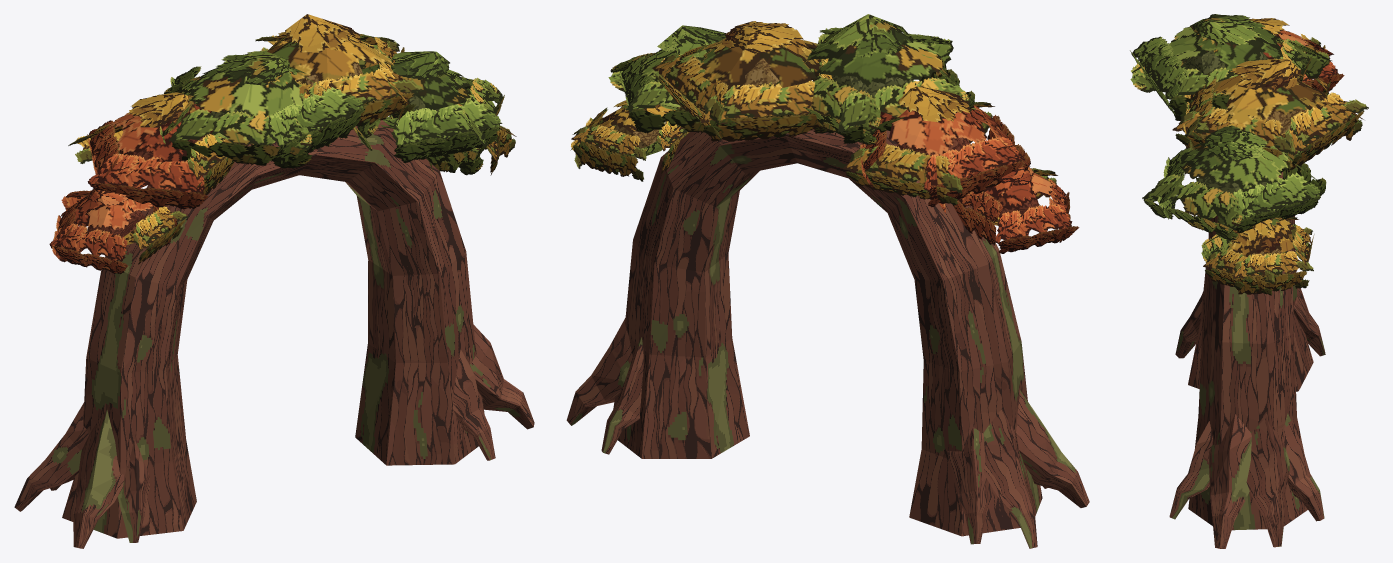
File: SM_TR13_Arch.fbx
The picture shows the model from 3 angles, left to right: view 1: azimuth 30°, elevation 25°; view 2: azimuth 150°, elevation 25°; view 3: azimuth 270°, elevation 25°; orthographic projection. The views are drawn at different scales.
Visible parts, largest first — view 1: TR13_Bark, TR13_Crown; view 2: TR13_Bark, TR13_Crown; view 3: TR13_Crown, TR13_Bark.
Part boxes in pixels (x1,y1,x2,y2): TR13_Bark: (14, 120, 534, 548); TR13_Crown: (49, 14, 516, 274); TR13_Bark: (566, 129, 1089, 548); TR13_Crown: (570, 14, 1079, 253); TR13_Crown: (1130, 14, 1368, 295); TR13_Bark: (1169, 172, 1325, 548).
Size of the model in its own units: 6.29 by 5.47 by 3.14.
